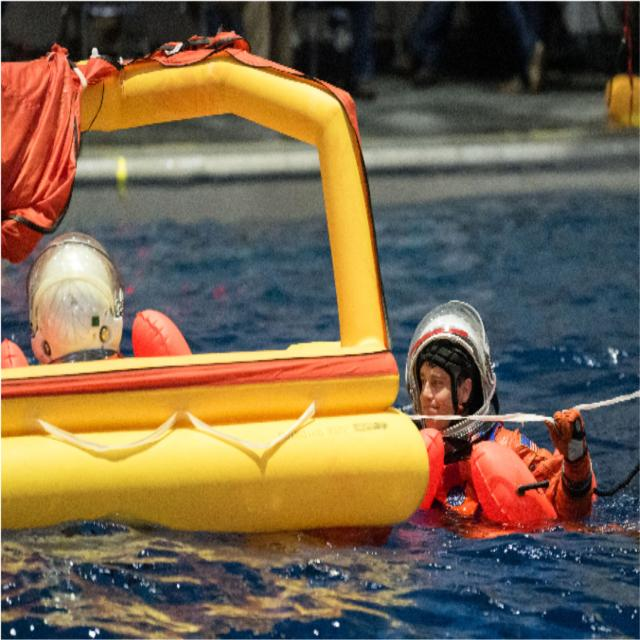Mannequin_wearing_orange-colored_life_preserver_unit_ LPU: (415, 428, 559, 524), (0, 306, 192, 369)
Multi-person_life_raft: (0, 29, 429, 532)
